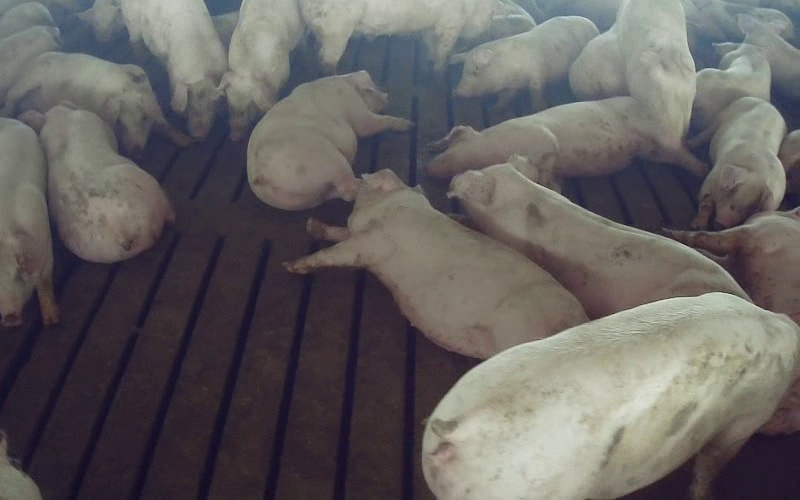pig: (423, 293, 799, 499), (285, 170, 586, 358), (449, 155, 748, 317), (426, 96, 706, 187), (20, 102, 173, 262), (247, 71, 411, 209), (0, 52, 190, 154), (668, 208, 799, 324), (121, 0, 227, 138), (451, 17, 597, 110), (300, 0, 493, 70), (688, 97, 785, 229), (617, 0, 695, 150), (691, 43, 770, 131)
